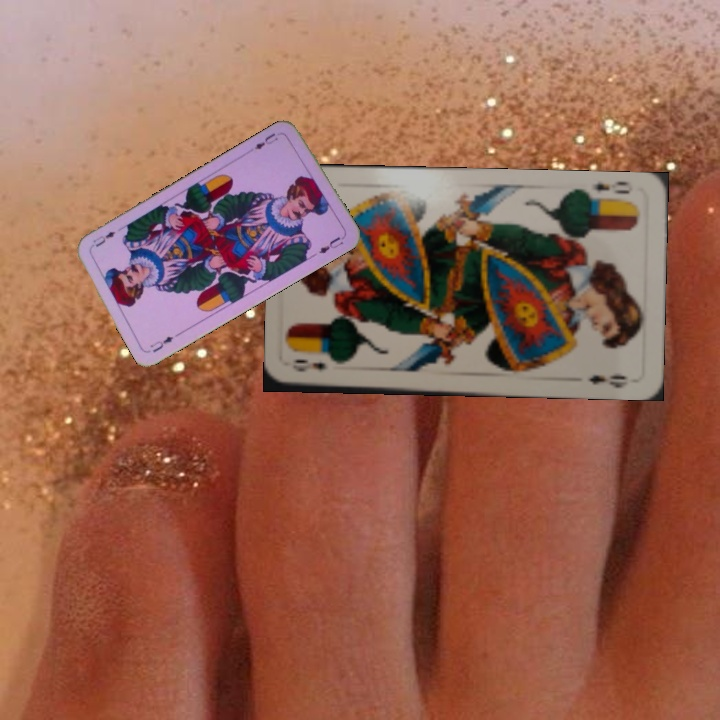EO: (583, 178, 632, 205), (288, 356, 329, 375)
EU: (146, 328, 183, 355), (250, 128, 285, 152)
